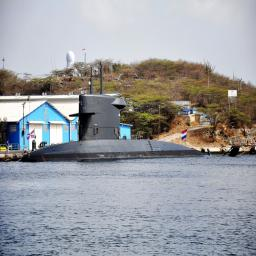submarine: (20, 87, 210, 163)
